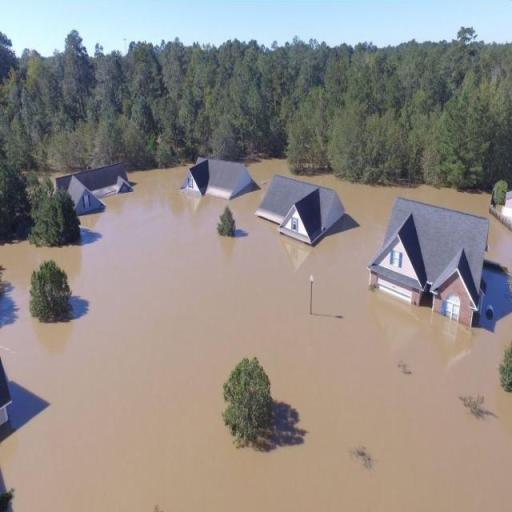flood: (0, 159, 512, 512), (478, 262, 512, 332), (8, 382, 49, 435), (0, 285, 16, 327), (72, 297, 88, 319)
house: (368, 178, 490, 346), (252, 171, 361, 249), (62, 165, 136, 216), (180, 157, 256, 203), (0, 348, 15, 428)
